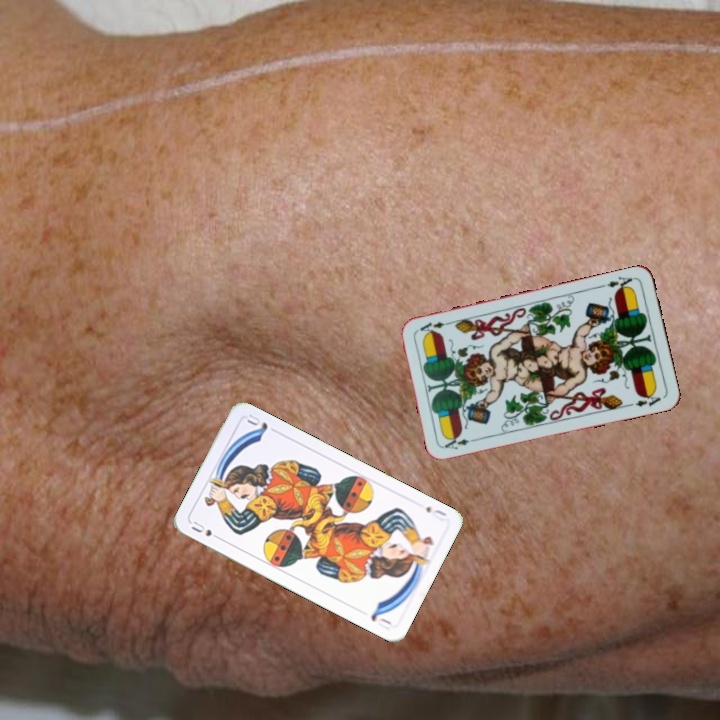EA: (440, 433, 481, 452), (603, 272, 637, 294)
SU: (187, 517, 225, 543), (422, 502, 449, 524)
